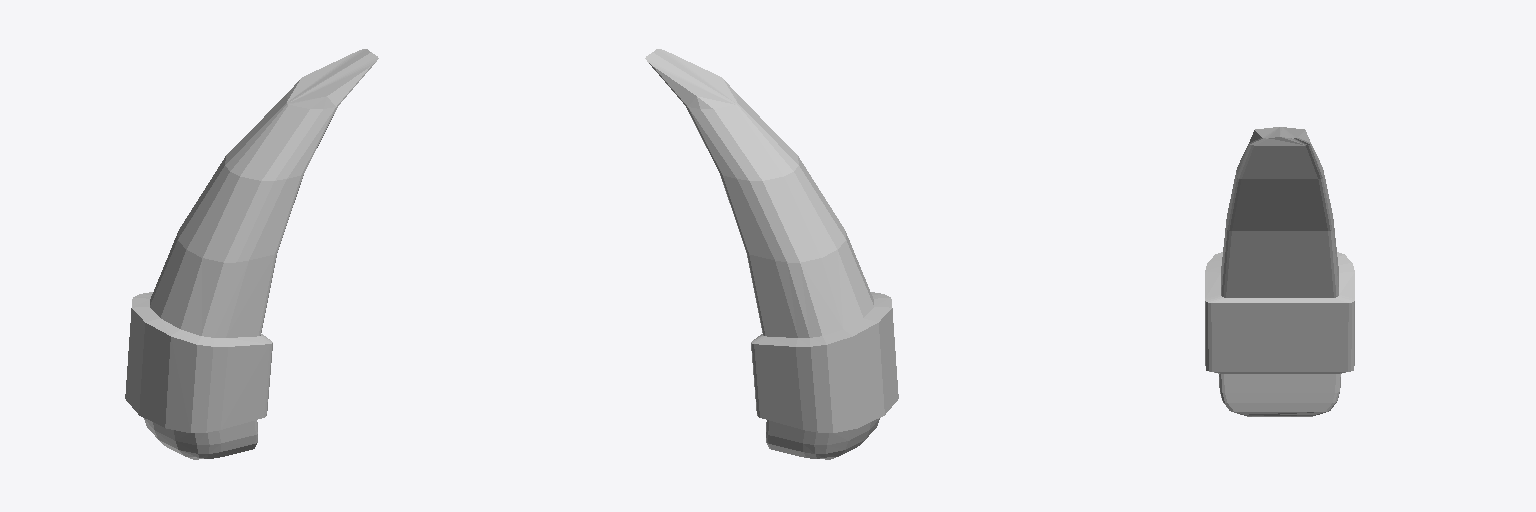
The model's file is character_fishermanArmRight.obj.
The picture shows the model from 3 angles: view 1: azimuth 30°, elevation 25°; view 2: azimuth 150°, elevation 25°; view 3: azimuth 270°, elevation 25°; orthographic projection.
Parts seen in each view (by area): view 1: character_fishermanArmRight_Cube.112; view 2: character_fishermanArmRight_Cube.112; view 3: character_fishermanArmRight_Cube.112.
Boxes of the visible parts, x1=… form: character_fishermanArmRight_Cube.112: x1=125, y1=49, x2=378, y2=459; character_fishermanArmRight_Cube.112: x1=645, y1=49, x2=898, y2=459; character_fishermanArmRight_Cube.112: x1=1205, y1=127, x2=1354, y2=416.
Bounding box in the file's own units: 0.3978 × 0.5708 × 0.2215.